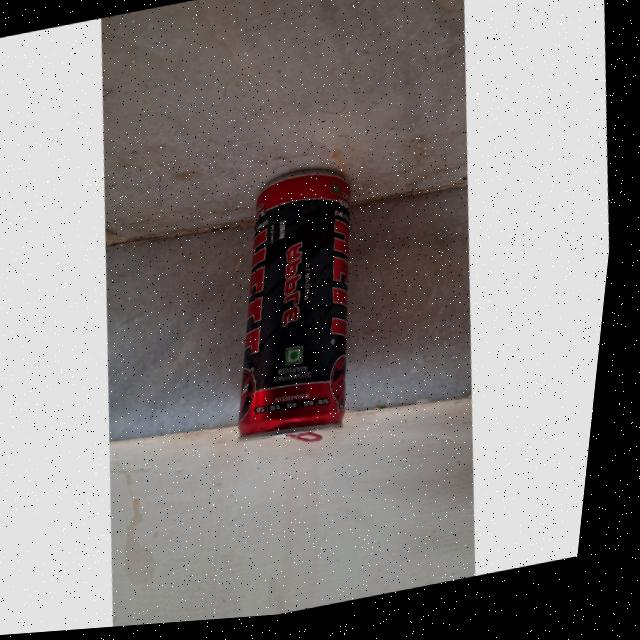Hell Apple: (189, 154, 410, 471)
